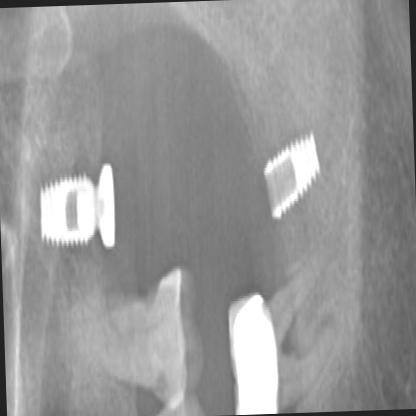Bicon: (31, 169, 110, 254), (261, 137, 326, 225)
